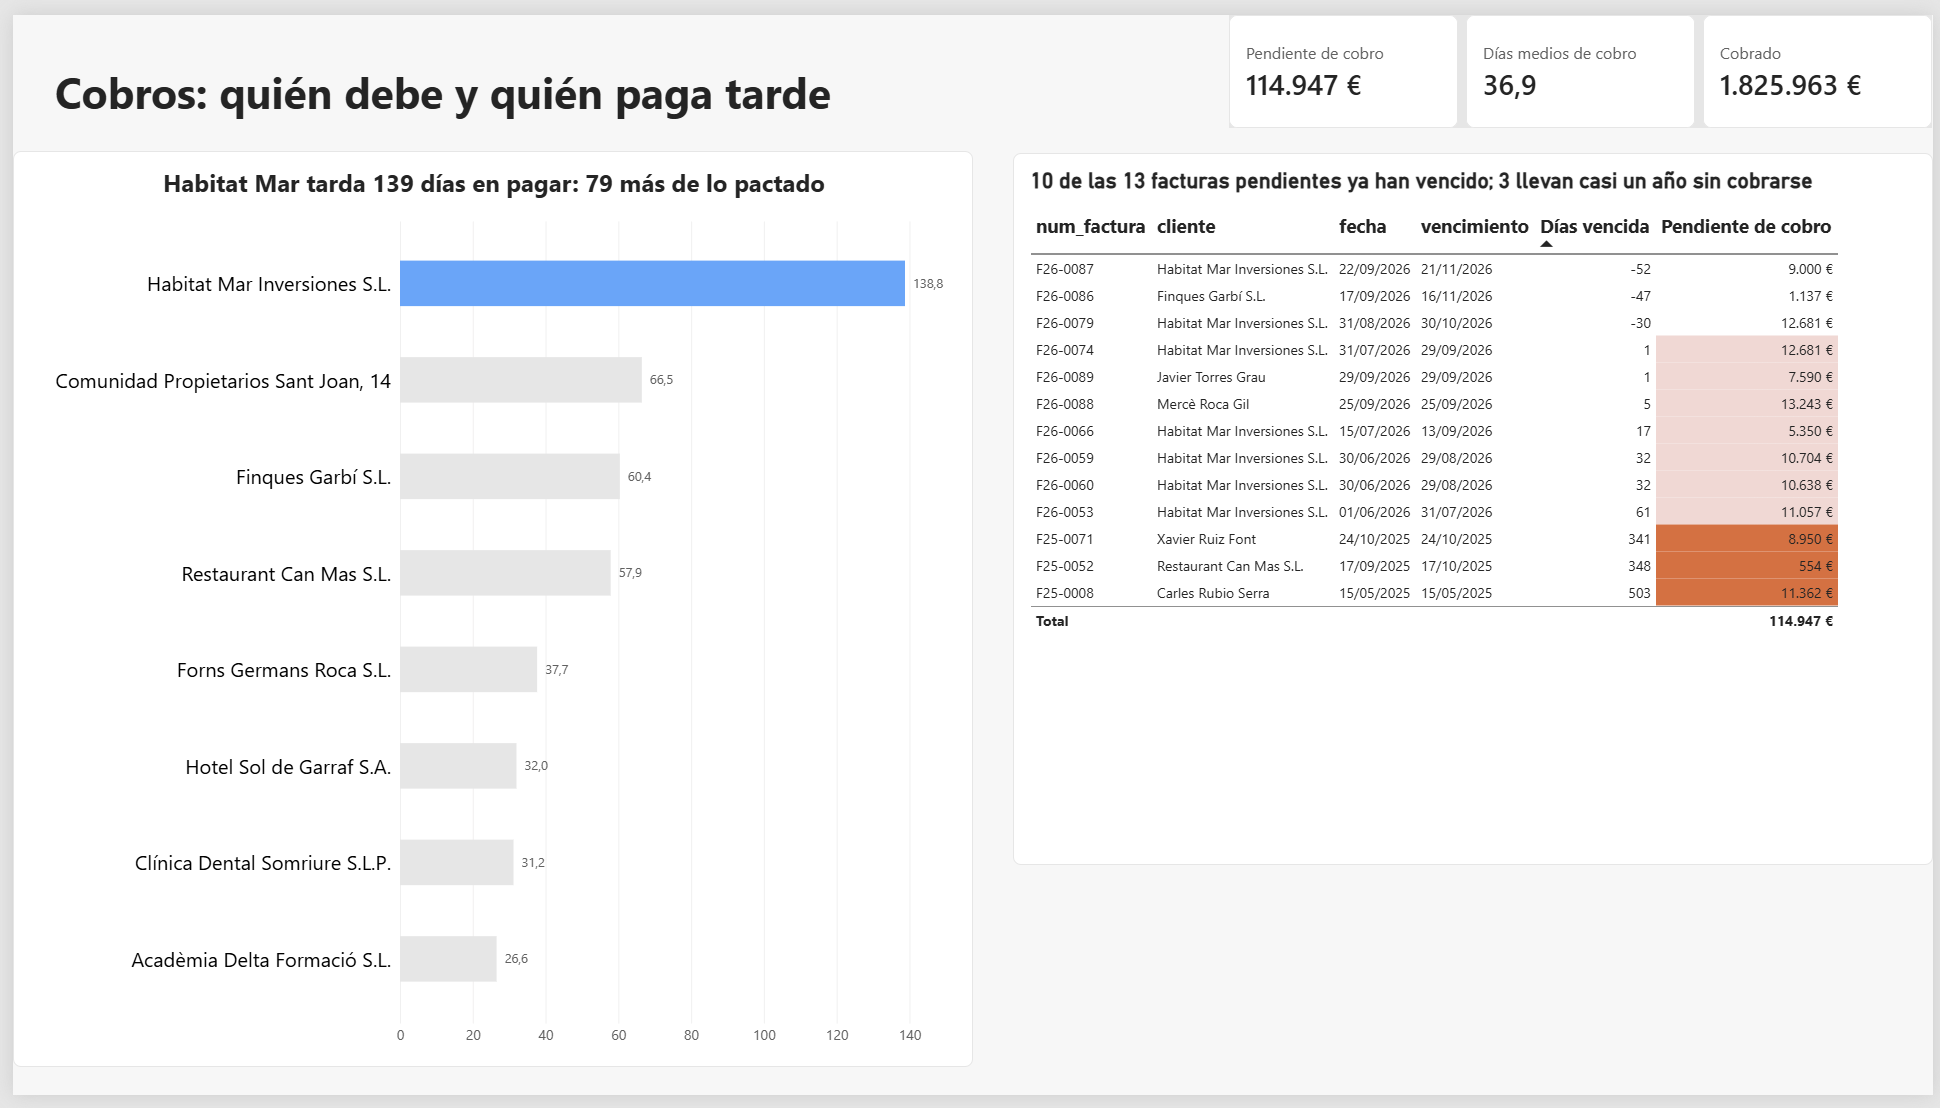

What the dashboard file says about the page in this screenshot:
{"tool":"powerbi","page":{"name":"Cobros","canvas":[1920,1080],"ordinal":1},"visuals":[{"type":"textbox","box":[0,48,848,90],"z":0},{"type":"cardVisual","fields":{"Data":["_Medidas.Pendiente de cobro","_Medidas.Días medios de cobro","_Medidas.Cobrado"]},"box":[1216,0,703.3,113.3],"z":1},{"type":"clusteredBarChart","title":"Habitat Mar tarda 139 días en pagar: 79 más de lo pactado","fields":{"Category":["dim_clientes.cliente"],"Y":["_Medidas.Días medios de cobro"]},"box":[0,136,960,916],"z":2},{"type":"tableEx","title":"10 de las 13 facturas pendientes ya han vencido; 3 llevan casi un año sin cobrarse","fields":{"Values":["hechos_estado_facturas.num_factura","dim_clientes.cliente","hechos_estado_facturas.fecha","hechos_estado_facturas.vencimiento","_Medidas.Días vencida","_Medidas.Pendiente de cobro"]},"box":[1000,138,920,712],"z":3}]}

Visuals, with their boxes in screenshot pixels (x1, y1, x2, y2), scaled from the page's 1920x1080 canvas onto the 1940x1108 screenshot:
textbox: BBox(0, 49, 857, 142)
cardVisual - _Medidas.Pendiente de cobro x _Medidas.Días medios de cobro: BBox(1229, 0, 1939, 116)
"Habitat Mar tarda 139 días en pagar: 79 más de lo pactado" clusteredBarChart: BBox(0, 140, 970, 1079)
"10 de las 13 facturas pendientes ya han vencido; 3 llevan casi un año sin cobrarse" tableEx: BBox(1010, 142, 1939, 872)
